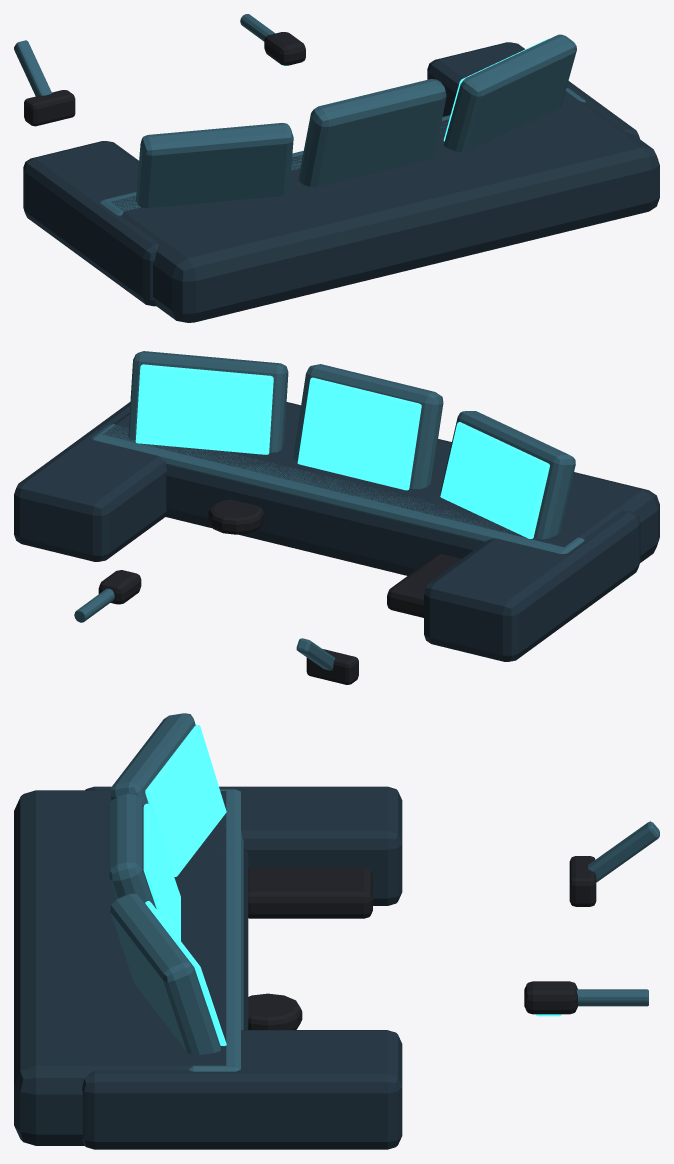
Rendered from UniversalCockpit.fbx.
The picture shows the model from 3 angles, top to bottom: view 1: azimuth 30°, elevation 25°; view 2: azimuth 150°, elevation 25°; view 3: azimuth 270°, elevation 25°; orthographic projection. The views are drawn at different scales.
Visible parts, largest first — view 1: Dashboard, LeftConsole, LeftMFD_Bezel, CenterRadar_Bezel, RightMFD_Bezel, RightConsole, ThrottleGrip, StickGrip, ThrottleLever, DashboardLip; view 2: Dashboard, LeftConsole, RightConsole, RightMFD_Surface, CenterRadar_Surface, DashboardLip, LeftMFD_Surface, CenterRadar_Bezel, LeftMFD_Bezel, RightMFD_Bezel, ThrottleBase, StickBase (+4 smaller); view 3: Dashboard, RightConsole, LeftConsole, RightMFD_Bezel, LeftMFD_Surface, ThrottleBase, DashboardLip, CenterRadar_Bezel, LeftMFD_Bezel, CenterRadar_Surface, StickBase, StickGrip (+4 smaller).
Boxes of the visible parts, x1,y1,x2,y2 form: Dashboard: [111, 91, 659, 322]; LeftConsole: [23, 141, 158, 306]; LeftMFD_Bezel: [136, 123, 293, 208]; CenterRadar_Bezel: [298, 79, 446, 186]; RightMFD_Bezel: [443, 34, 576, 152]; RightConsole: [427, 42, 639, 138]; ThrottleGrip: [24, 90, 75, 126]; StickGrip: [264, 32, 305, 65]; ThrottleLever: [14, 40, 51, 96]; DashboardLip: [100, 88, 585, 215]; Dashboard: [103, 402, 659, 575]; LeftConsole: [424, 510, 640, 661]; RightConsole: [14, 402, 166, 561]; RightMFD_Surface: [135, 364, 273, 454]; CenterRadar_Surface: [297, 377, 421, 490]; DashboardLip: [92, 424, 584, 553]; LeftMFD_Surface: [440, 422, 549, 538]; CenterRadar_Bezel: [293, 364, 443, 489]; LeftMFD_Bezel: [440, 411, 575, 539]; RightMFD_Bezel: [128, 351, 288, 452]; ThrottleBase: [387, 554, 461, 617]; StickBase: [208, 499, 264, 534]; Dashboard: [14, 790, 248, 1145]; RightConsole: [82, 1030, 402, 1149]; LeftConsole: [85, 786, 402, 905]; RightMFD_Bezel: [110, 893, 220, 1054]; LeftMFD_Surface: [145, 725, 226, 876]; ThrottleBase: [248, 867, 372, 918]; DashboardLip: [189, 789, 243, 1071]; CenterRadar_Bezel: [109, 793, 156, 908]; LeftMFD_Bezel: [110, 713, 195, 806]; CenterRadar_Surface: [143, 803, 180, 940]; StickBase: [248, 993, 302, 1029]; StickGrip: [524, 981, 577, 1014].
Bounding box in the file's own units: 2.9 × 0.8127 × 2.65.
